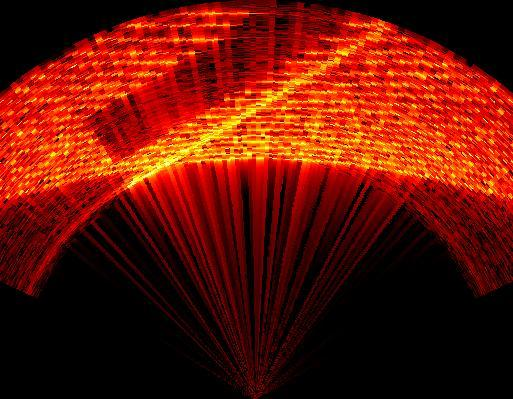pipe: (83, 5, 395, 188)
